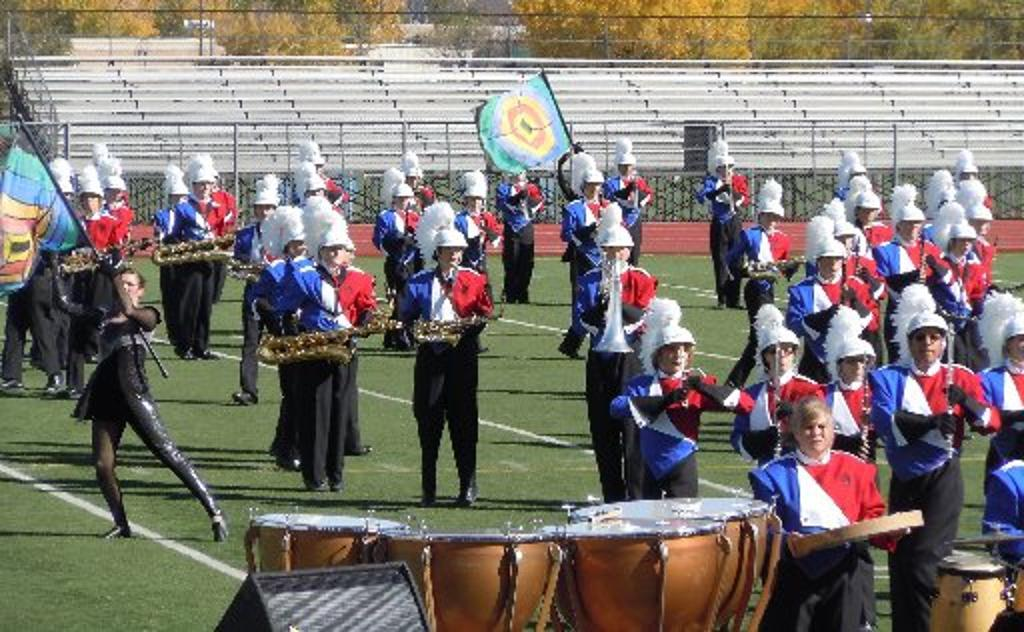face: (801, 414, 832, 453), (912, 327, 943, 363), (660, 342, 691, 372), (765, 341, 795, 371), (842, 354, 872, 384), (820, 255, 844, 278), (322, 243, 345, 266), (119, 275, 139, 299), (856, 204, 878, 224), (901, 218, 922, 238), (953, 236, 973, 256), (608, 242, 627, 262), (442, 245, 460, 266), (1010, 335, 1024, 360), (256, 202, 274, 221), (288, 240, 307, 258), (106, 187, 123, 207), (835, 235, 855, 252), (307, 188, 325, 206), (82, 192, 100, 208), (195, 180, 211, 198), (975, 218, 991, 236), (764, 210, 778, 227), (586, 180, 600, 196), (469, 195, 483, 210), (619, 162, 632, 176), (172, 192, 185, 205), (396, 195, 408, 208), (721, 163, 732, 176), (408, 175, 417, 187), (514, 171, 522, 182)
